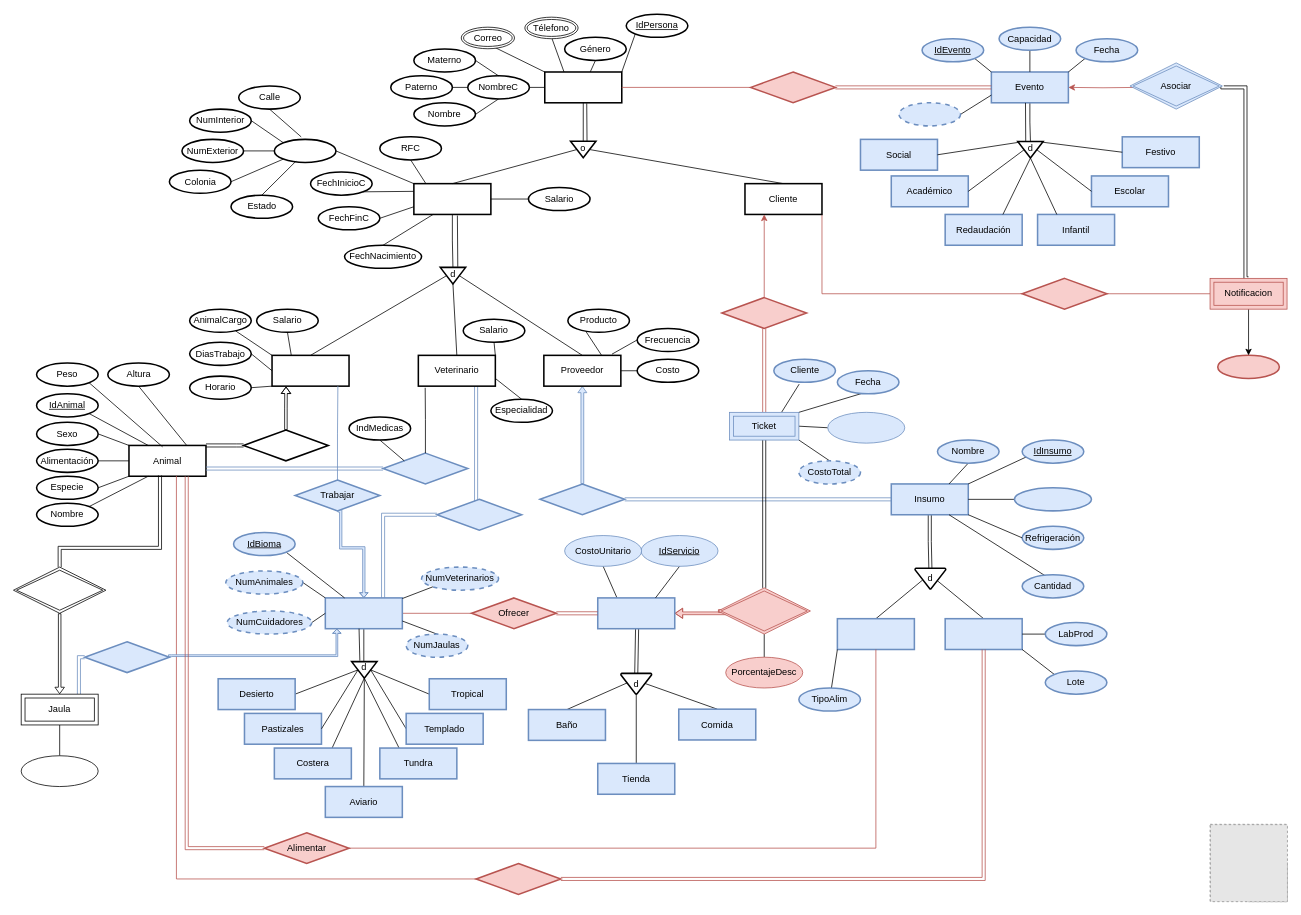
This 1301x915 diagram has some shape labels left out. Grey dashed boxes stand in for pictures. Each missing label, with the centre of its shape:
Alimento: (x=875, y=634)
Asistencia: (x=929, y=114)
Asistir: (x=793, y=87)
Atender: (x=425, y=468)
Bioma: (x=363, y=613)
Cuidador: (x=310, y=370)
Cuidar: (x=285, y=445)
Dirección: (x=304, y=150)
Emitir: (x=764, y=312)
FechCaducidad: (x=1052, y=499)
IdNotificación: (x=1248, y=366)
IdTicket: (x=866, y=427)
Inscribir: (x=763, y=610)
Laborar: (x=479, y=514)
Medicina: (x=983, y=634)
Notificar: (x=1064, y=293)
NumJaula: (x=59, y=771)
Persona: (x=583, y=87)
Pertenecer: (x=59, y=589)
Proveer: (x=582, y=499)
Servicio: (x=636, y=613)
Subministrar: (x=518, y=878)
Tener: (x=127, y=657)
Trabajador: (x=452, y=198)
